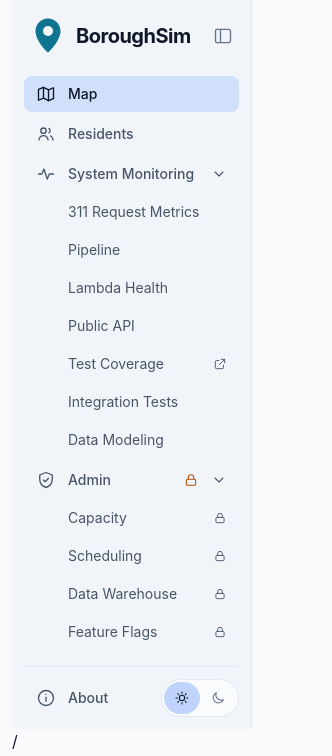
Test case: Sidebar Admin lock › signed out: clicking an item navigates to its admin path (AdminRoute then redirects to /login)
The image size is (332, 756).
Click the link "Data Warehouse".
click(156, 598)  # box x1=67 y1=585 x2=245 y2=612
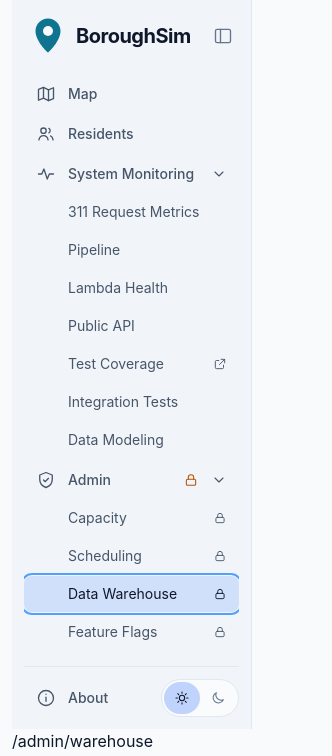
Result: the text with test id "path" reads "/admin/warehouse" at x1=12 y1=731 x2=153 y2=751
